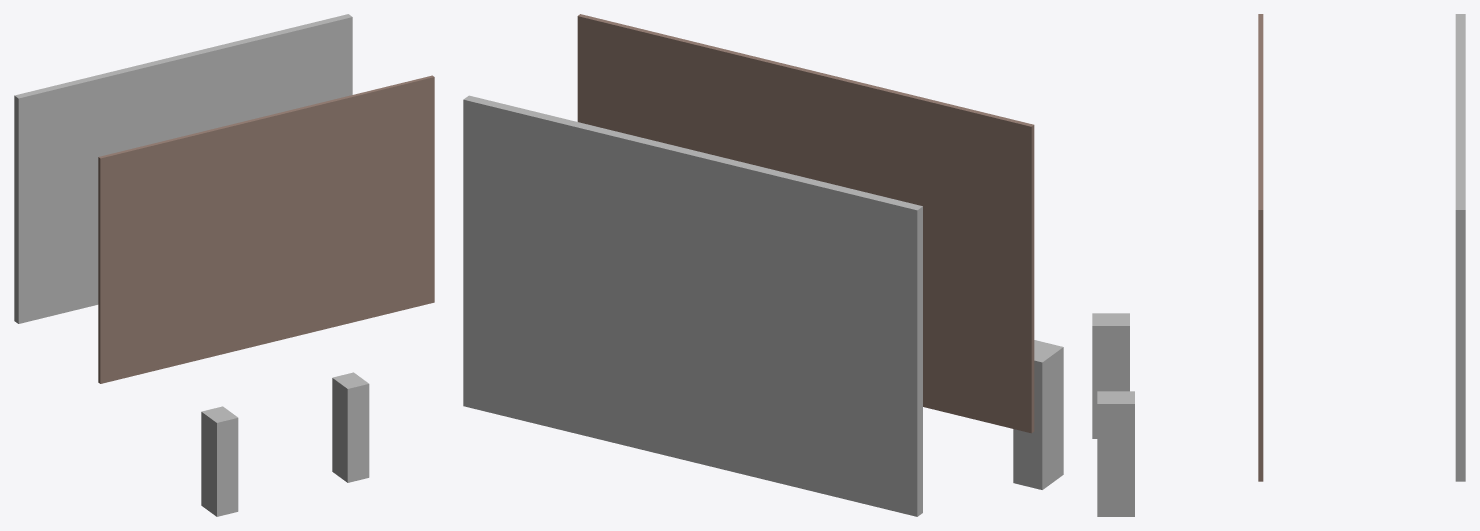
Rendered from ddd.glb.
3 views of the same model, side by side, from view 1: azimuth 30°, elevation 25°; view 2: azimuth 150°, elevation 25°; view 3: azimuth 270°, elevation 25° (orthographic). The views are drawn at different scales.
Visible parts, largest first — view 1: mesh; view 2: mesh; view 3: mesh.
Part boxes in pixels (left/top/right/bottom): mesh: left=14, top=14, right=434, bottom=516; mesh: left=463, top=14, right=1063, bottom=516; mesh: left=1092, top=14, right=1465, bottom=516.
Size of the model in its own units: 30.51 by 27.89 by 24.52.
